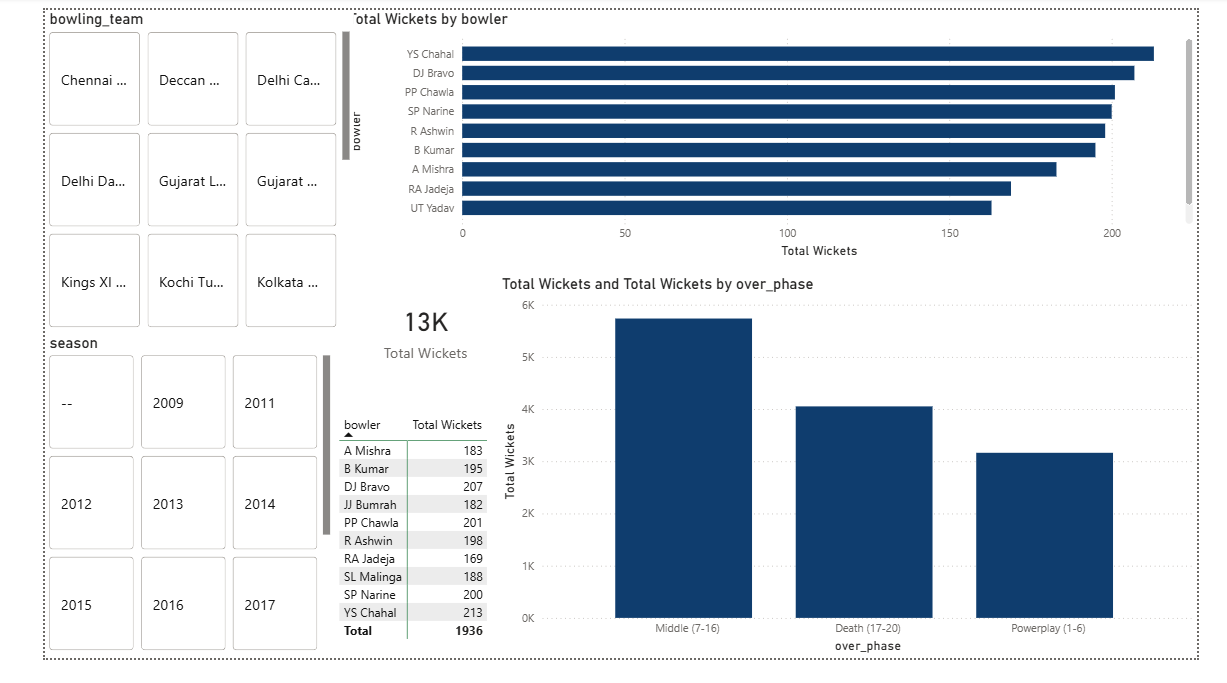

What the dashboard file says about the page in this screenshot:
{"tool":"powerbi","page":{"name":"Bowling Analysis","canvas":[1280,720],"ordinal":2},"visuals":[{"type":"clusteredBarChart","fields":{"Category":["deliveries_cleaned.bowler"],"Y":["deliveries_cleaned.Total Wickets"]},"box":[331.9,0,948.6,280.6],"z":0},{"type":"columnChart","fields":{"Category":["deliveries_cleaned.over_phase"],"Y":["deliveries_cleaned.Total Wickets"]},"box":[502.8,294.4,777.8,425],"z":1000},{"type":"pivotTable","fields":{"Rows":["deliveries_cleaned.bowler"],"Values":["deliveries_cleaned.Total Wickets"]},"box":[322.2,444.4,180.6,275],"z":2000},{"type":"advancedSlicerVisual","fields":{"Values":["matches_cleaned.season"]},"box":[0,359.7,322.2,359.7],"z":3000},{"type":"advancedSlicerVisual","fields":{"Values":["deliveries_cleaned.bowling_team"]},"box":[0,0,343.1,359.7],"z":4000},{"type":"card","fields":{"Values":["deliveries_cleaned.Total Wickets"]},"box":[343,281,160,150],"z":5000}]}

Visuals, with their boxes in screenshot pixels (x1, y1, x2, y2), scaled from the page's 1280x720 canvas onto the 1227x683 screenshot:
clusteredBarChart - deliveries_cleaned.bowler x deliveries_cleaned.Total Wickets: 318,0,1226,266
columnChart - deliveries_cleaned.over_phase x deliveries_cleaned.Total Wickets: 482,279,1226,682
pivotTable - deliveries_cleaned.bowler x deliveries_cleaned.Total Wickets: 309,422,482,682
advancedSlicerVisual - matches_cleaned.season: 0,341,309,682
advancedSlicerVisual - deliveries_cleaned.bowling_team: 0,0,329,341
card - deliveries_cleaned.Total Wickets: 329,267,482,409
